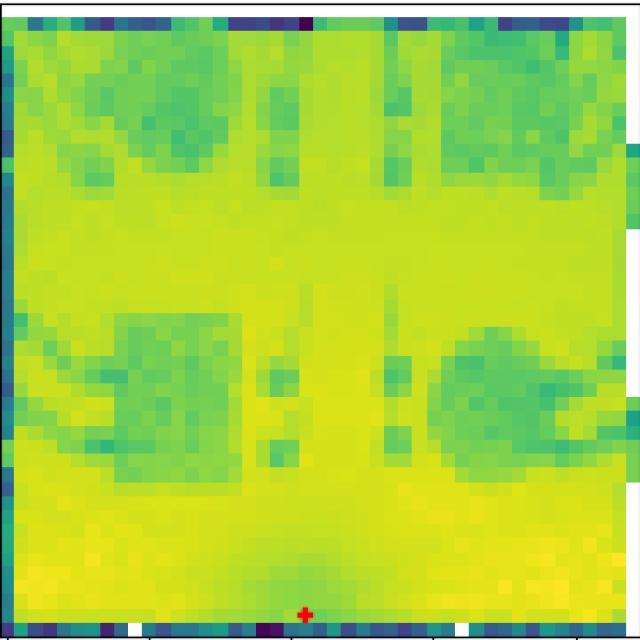Concrete: (436, 36, 592, 200)
Glass: (108, 36, 245, 182)
Metal: (438, 323, 580, 492)
Wood: (109, 312, 253, 498)
